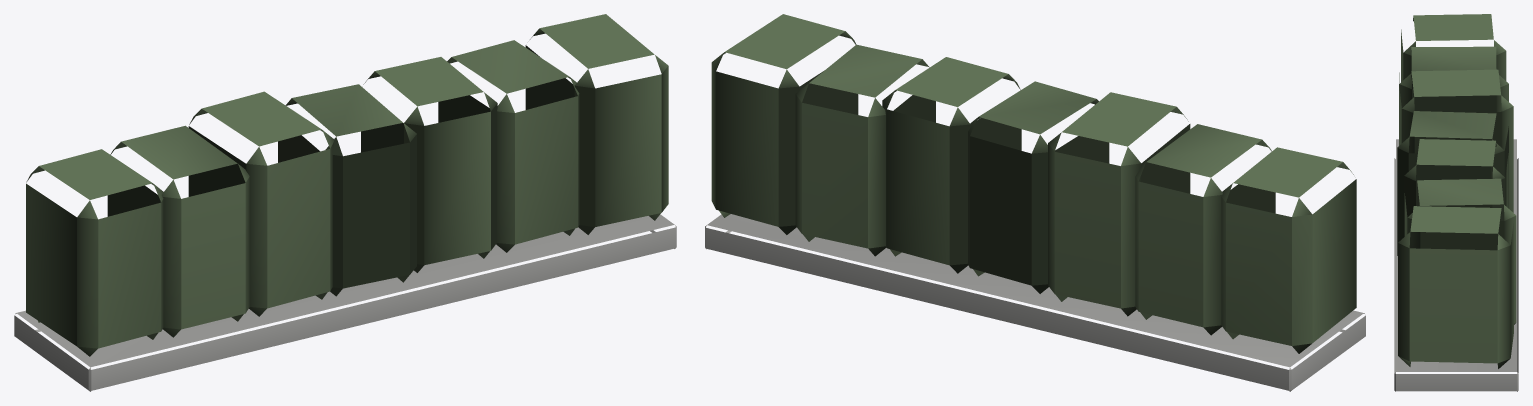
The model's file is hedge_run.glb.
3 views of the same model, side by side, from view 1: azimuth 30°, elevation 25°; view 2: azimuth 150°, elevation 25°; view 3: azimuth 270°, elevation 25° (orthographic). The views are drawn at different scales.
Parts seen in each view (by area): view 1: props_hedge_run; view 2: props_hedge_run; view 3: props_hedge_run.
Boxes of the visible parts, x1,y1,x2,y2 form: props_hedge_run: (14,14,676,391); props_hedge_run: (705,14,1365,391); props_hedge_run: (1394,14,1518,391).
Bounding box in the file's own units: 4.07 × 1.27 × 0.8998.
